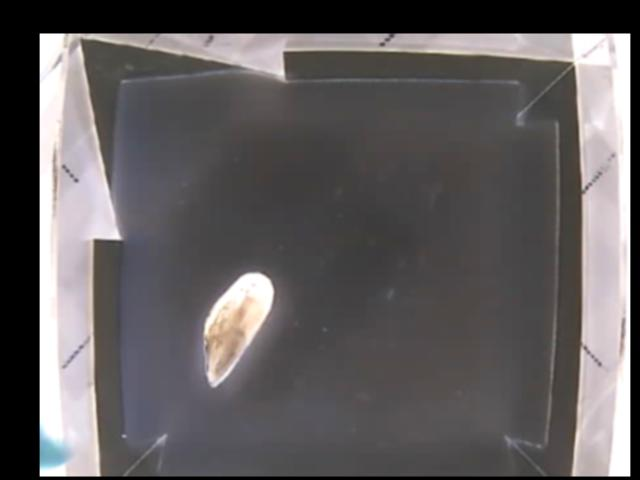Shell: (201, 267, 275, 386)
